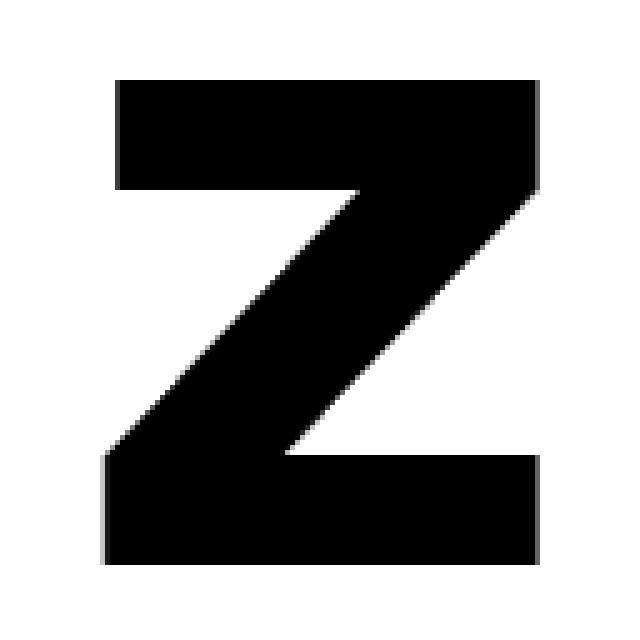Z: (95, 75, 545, 565)
